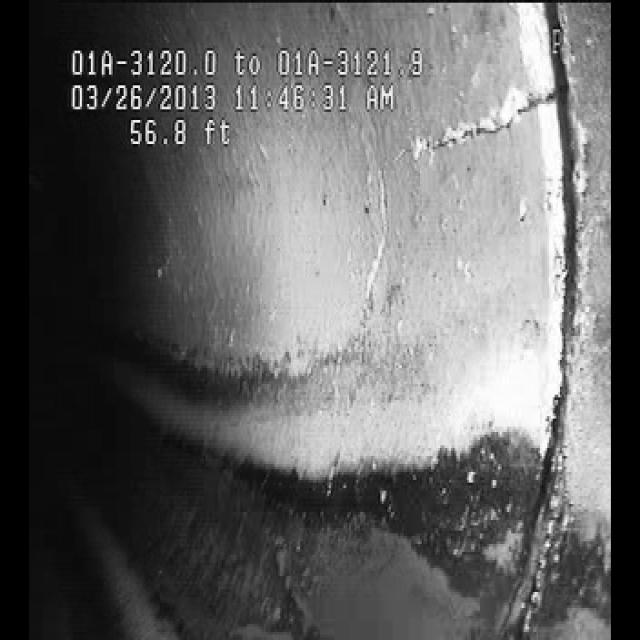Crack: (412, 80, 576, 190)
